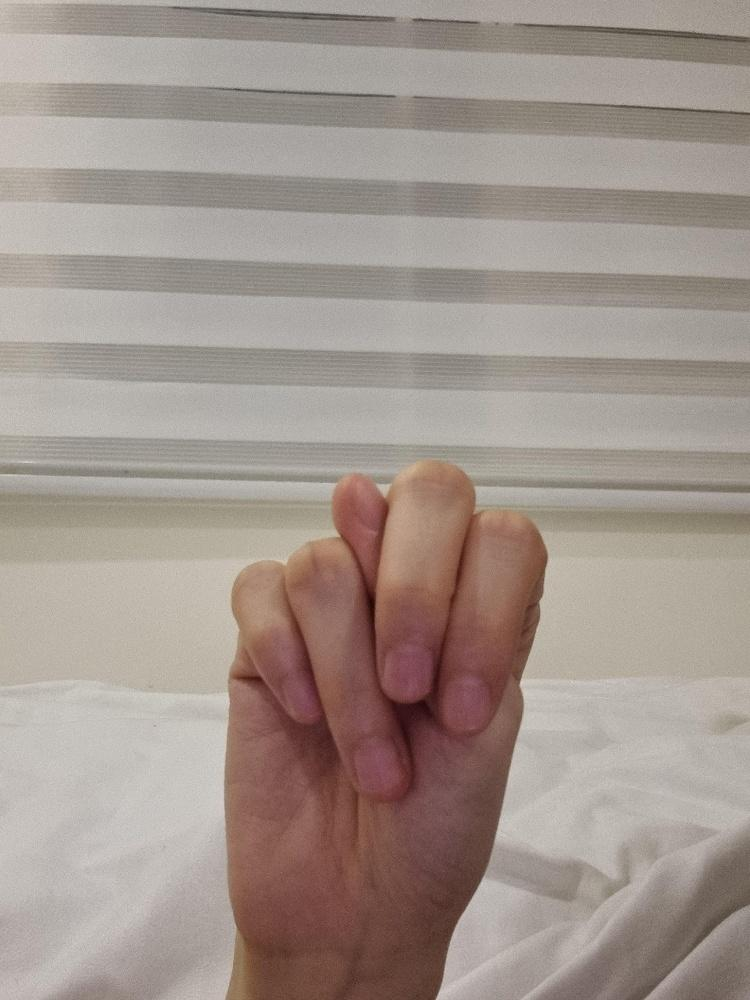n: (220, 456, 549, 952)
